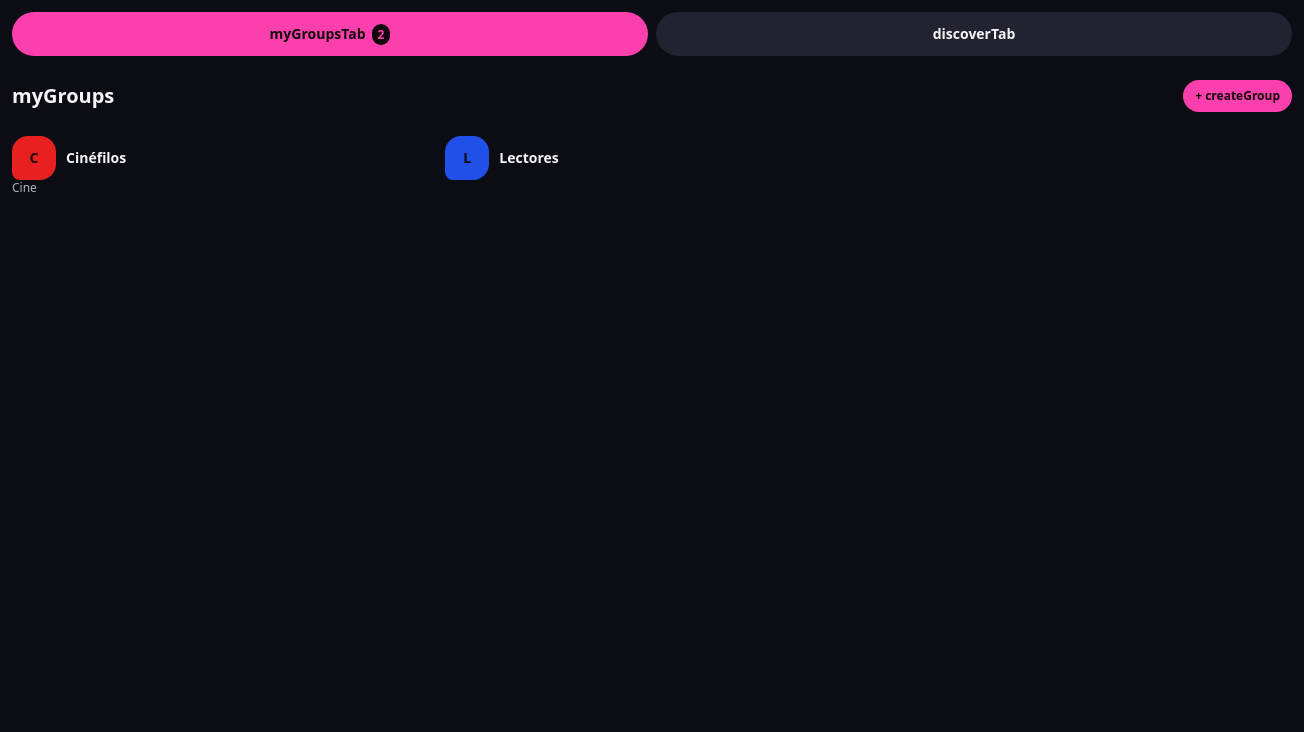
Test: GroupsClient › shows the create-group button and toggles the form
Expected: the field with placeholder "groupNamePlaceholder" is not shown
Step 1. Click the button "+ createGroup" → (1238, 96), box [1183, 80, 1292, 112]
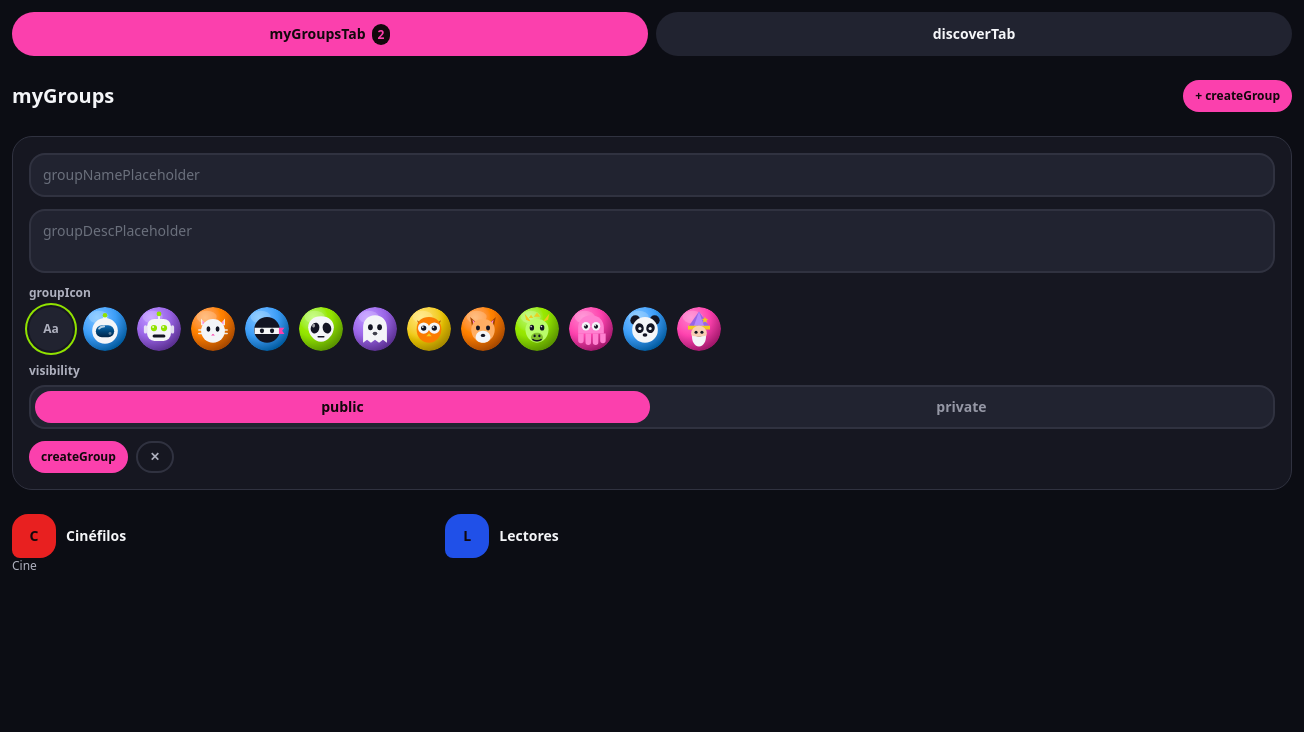
Expected: the field with placeholder "groupNamePlaceholder" is shown, [29, 153, 1275, 197]
